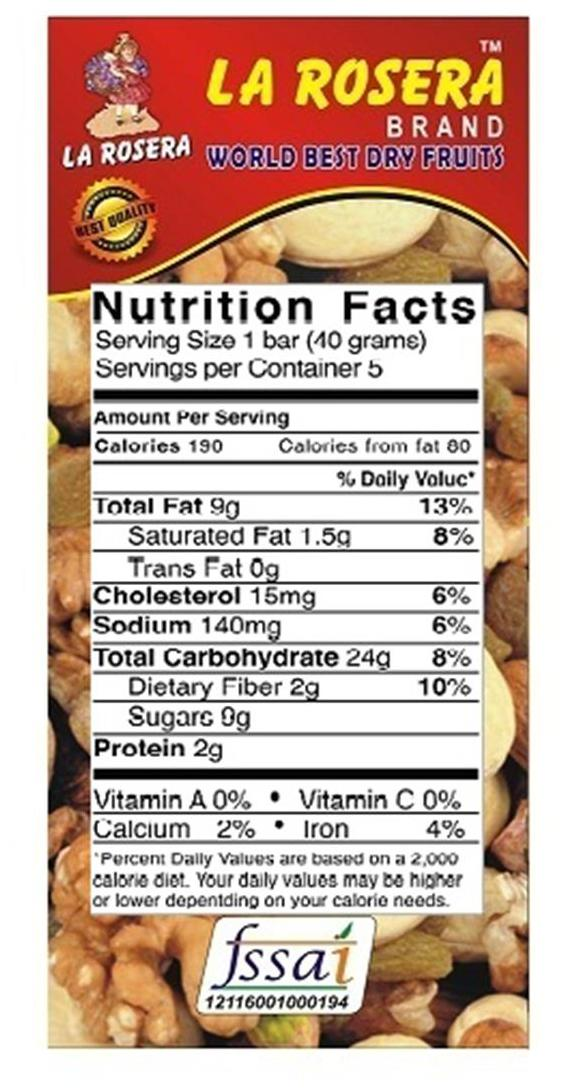fssai: (210, 921, 359, 992)
